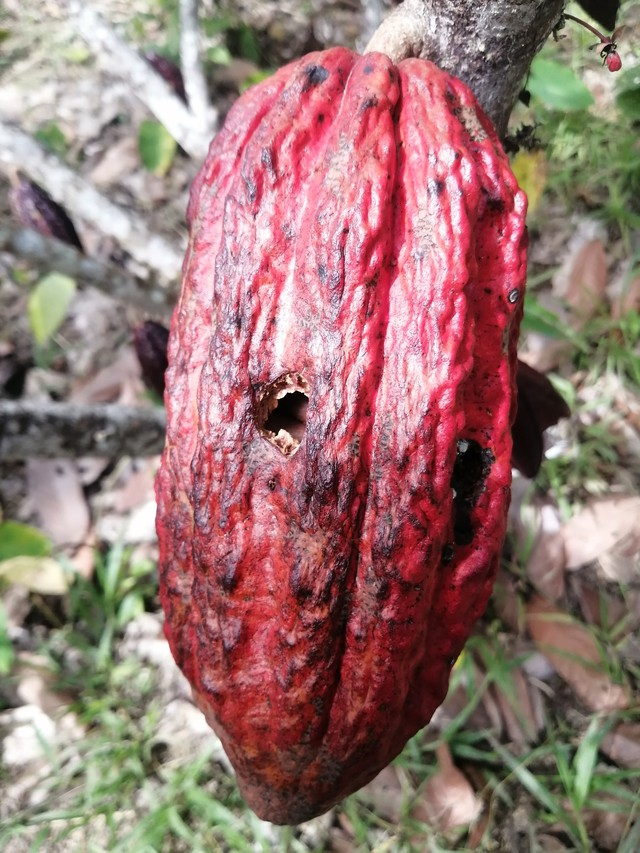carmenta foraseminis: (150, 41, 532, 827)
